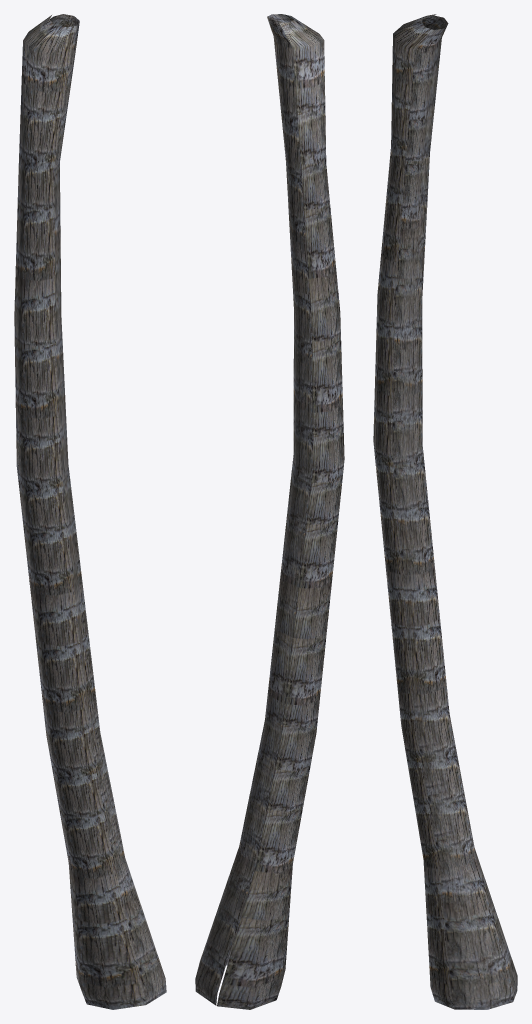
File: tronco.obj
3 renders of one model, left to right at view 1: azimuth 30°, elevation 25°; view 2: azimuth 150°, elevation 25°; view 3: azimuth 330°, elevation 25°, orthographic. The views are drawn at different scales.
Visible parts, largest first — view 1: palm_leaves_palm_leaves_0.013; view 2: palm_leaves_palm_leaves_0.013; view 3: palm_leaves_palm_leaves_0.013.
Part boxes in pixels (<box>): palm_leaves_palm_leaves_0.013: <box>14,14,166,1009</box>; palm_leaves_palm_leaves_0.013: <box>195,14,344,1009</box>; palm_leaves_palm_leaves_0.013: <box>373,14,517,1009</box>.
Bounding box in the file's own units: 13.01 × 87.33 × 7.49.
